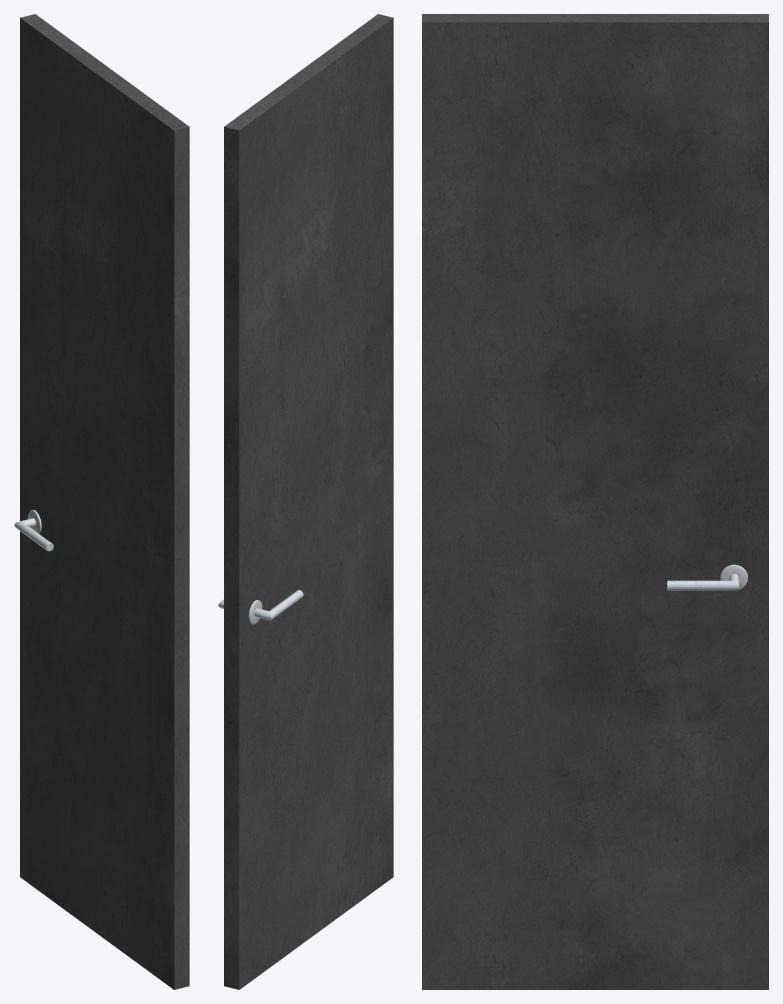
Rendered from 20251014_Building03_top unit_door2.fbx.
3 renders of one model, left to right at view 1: azimuth 30°, elevation 25°; view 2: azimuth 150°, elevation 25°; view 3: azimuth 270°, elevation 25°, orthographic. The views are drawn at different scales.
Parts seen in each view (by area): view 1: int door, DoorHandle3_2; view 2: int door, DoorHandle3_2; view 3: int door, DoorHandle3.
Part boxes in pixels (x1=…): int door: x1=20, y1=14, x2=189, y2=989; DoorHandle3_2: x1=14, y1=510, x2=53, y2=551; int door: x1=224, y1=14, x2=393, y2=989; DoorHandle3_2: x1=248, y1=590, x2=303, y2=624; int door: x1=422, y1=14, x2=768, y2=989; DoorHandle3: x1=667, y1=564, x2=747, y2=590.
Size of the model in its own units: 5.2 by 26 by 80.
